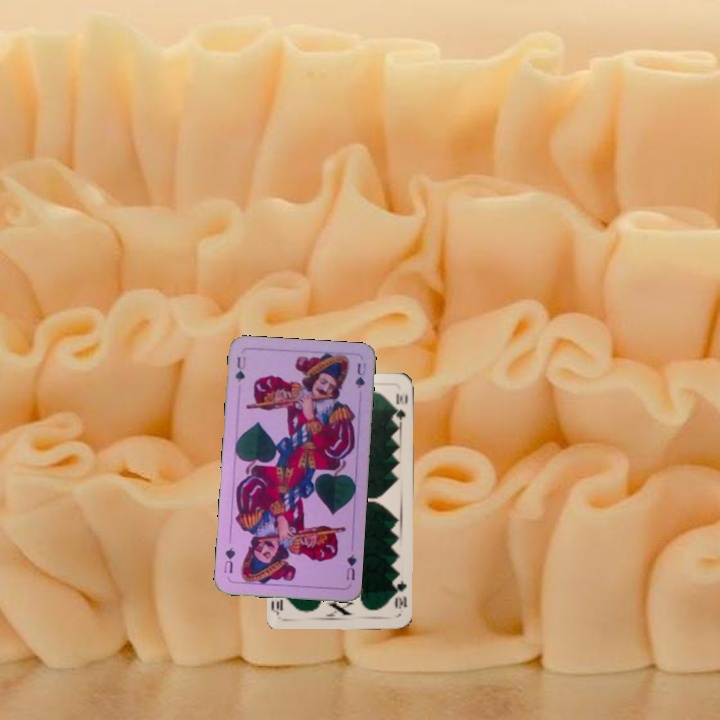G10: (389, 576, 409, 611)
GU: (342, 550, 359, 583), (231, 353, 248, 384)
